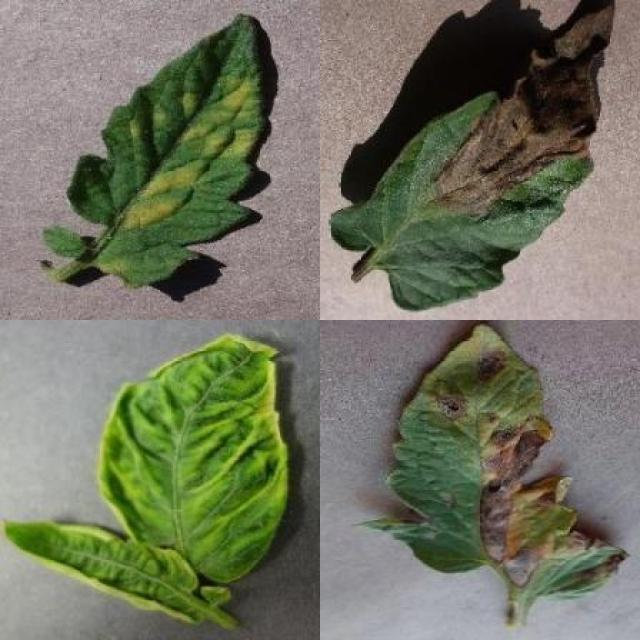Early Blight: (359, 322, 627, 599)
Late Blight: (328, 0, 616, 307)
Leaf Mold: (67, 13, 266, 286)
Yellow Leaf Curl Virus: (2, 332, 287, 625)
